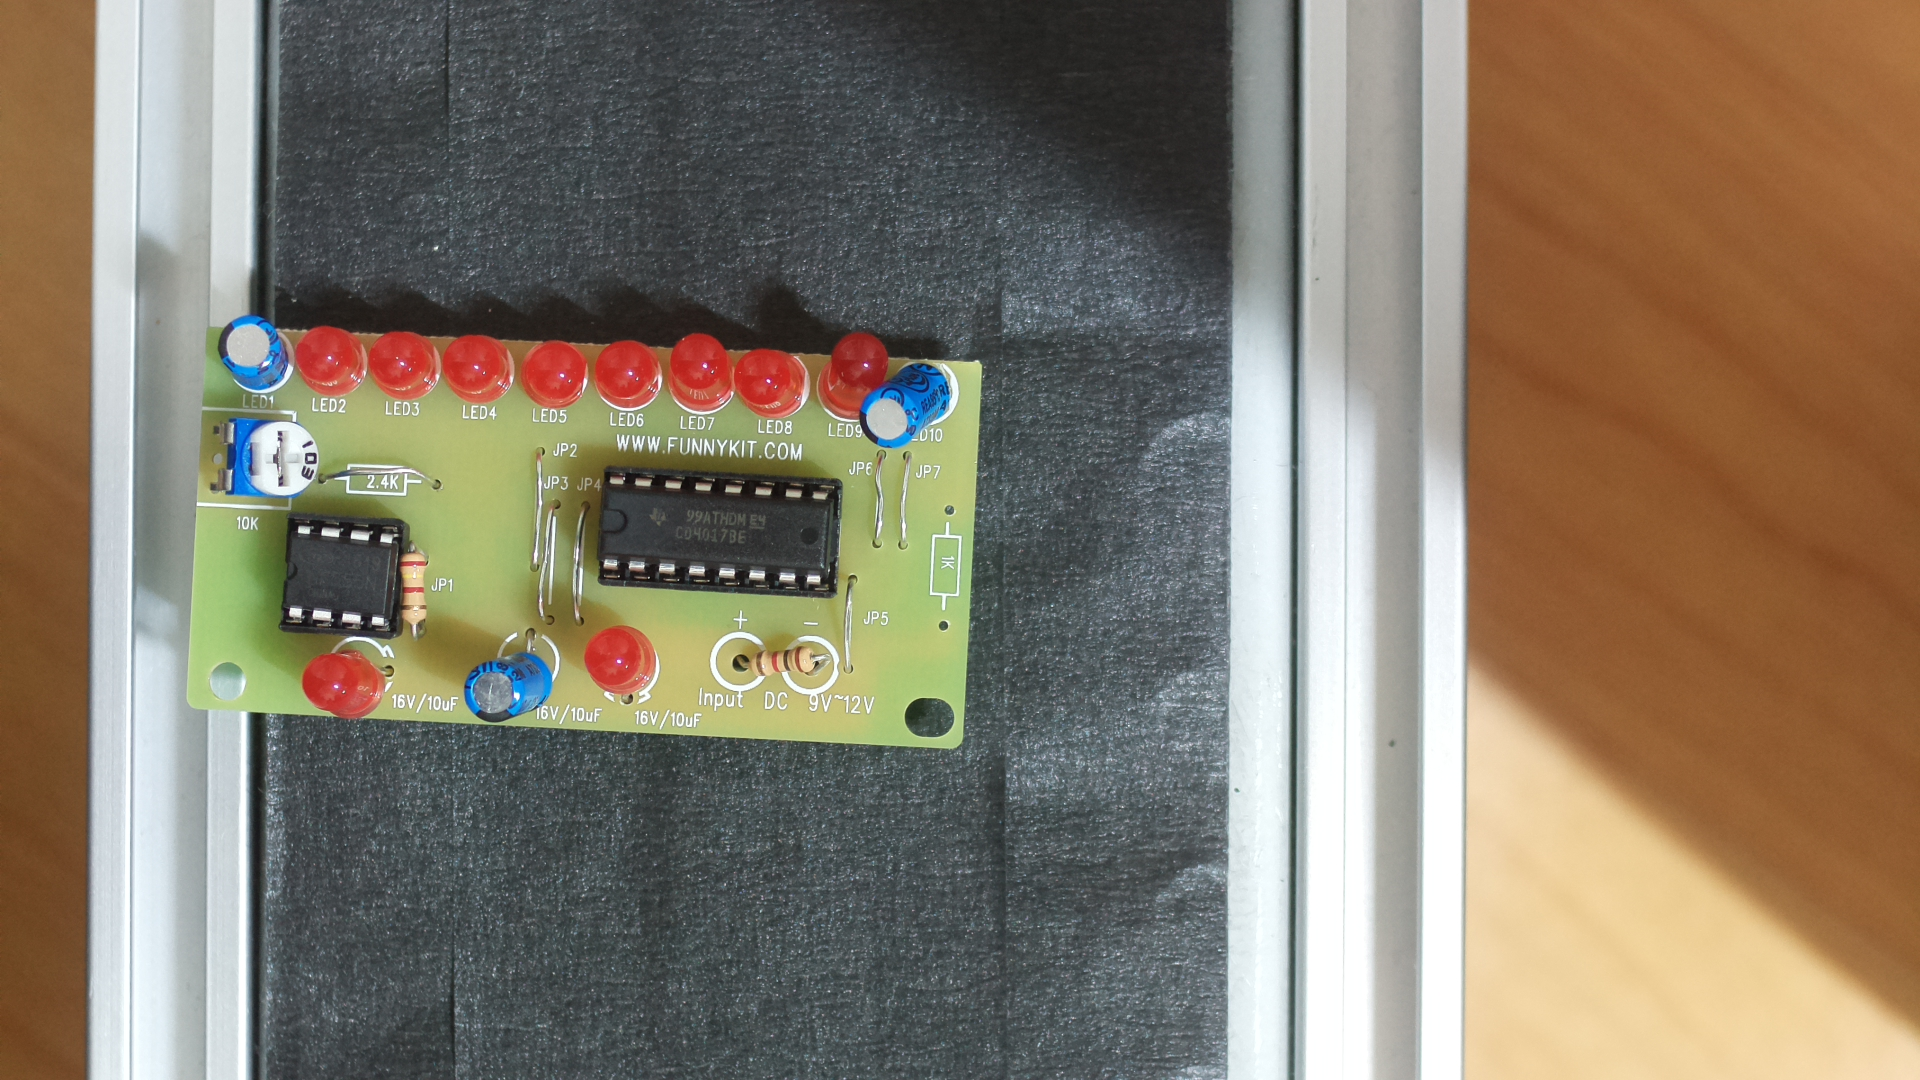B_Misordered: (185, 306, 1002, 766)
